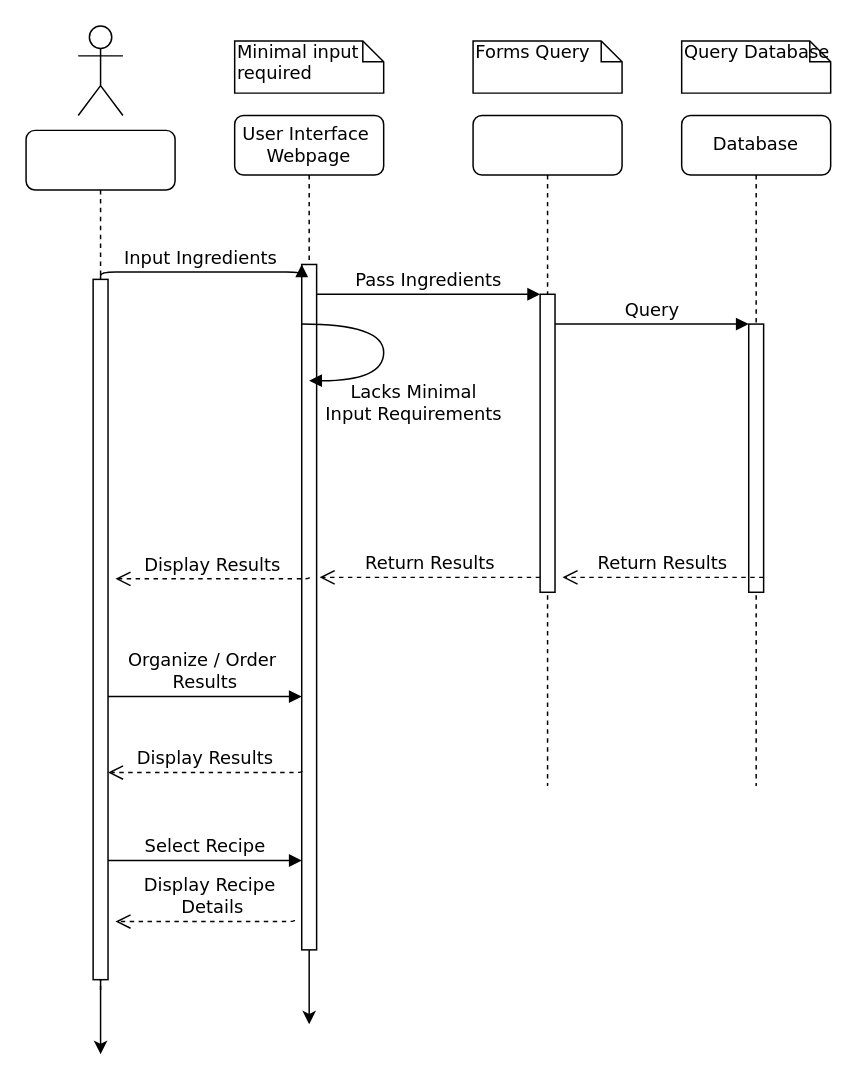
This 857x1092 diagram has some shape labels left out. The shapes that lost their labels are listed below. From the top down, each one's box as (x1, y1, x2, y2) in pixels, then its label:
(472, 114, 622, 786): Back-End
(25, 129, 175, 995): User
